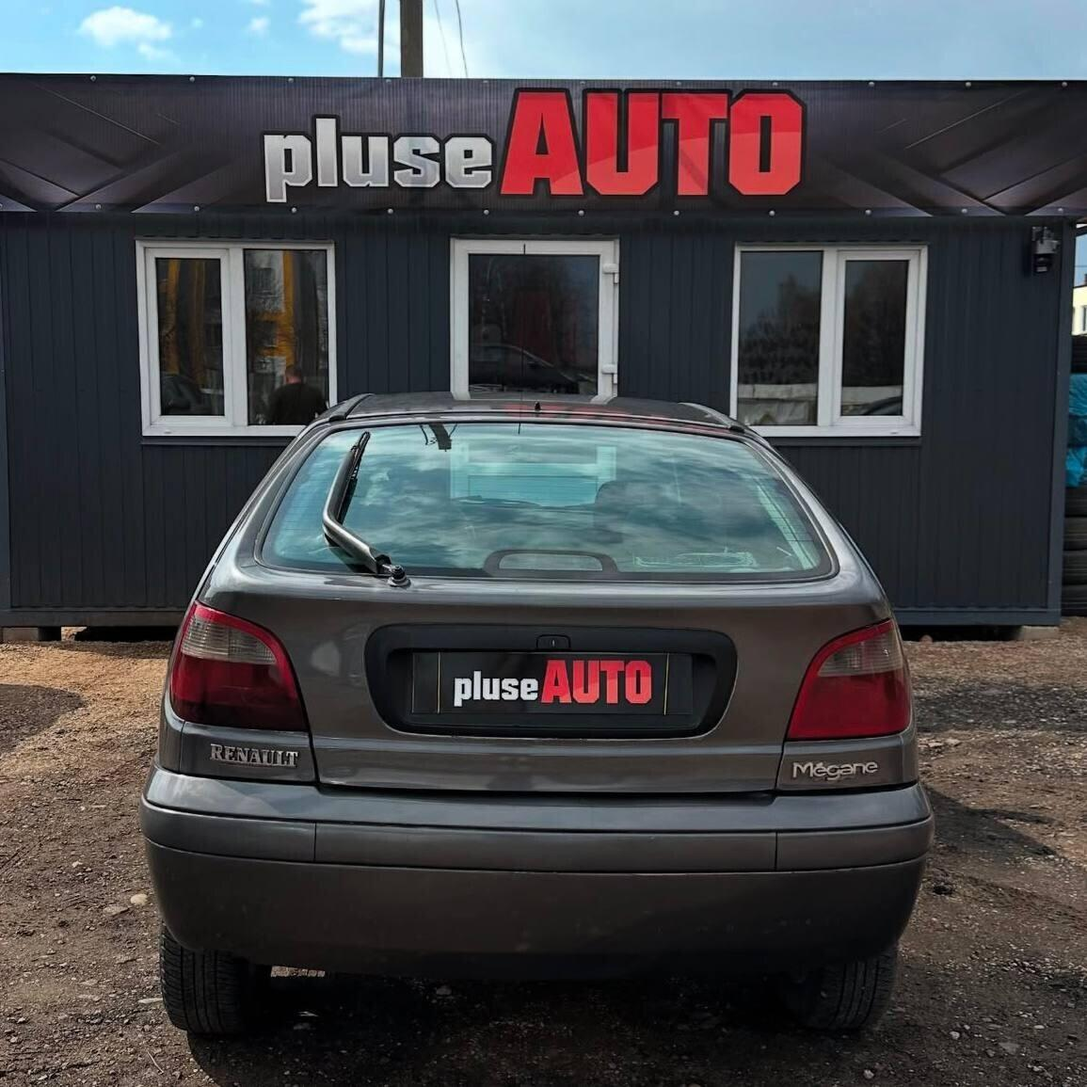Megane_1999-2003: (125, 386, 941, 1038)
